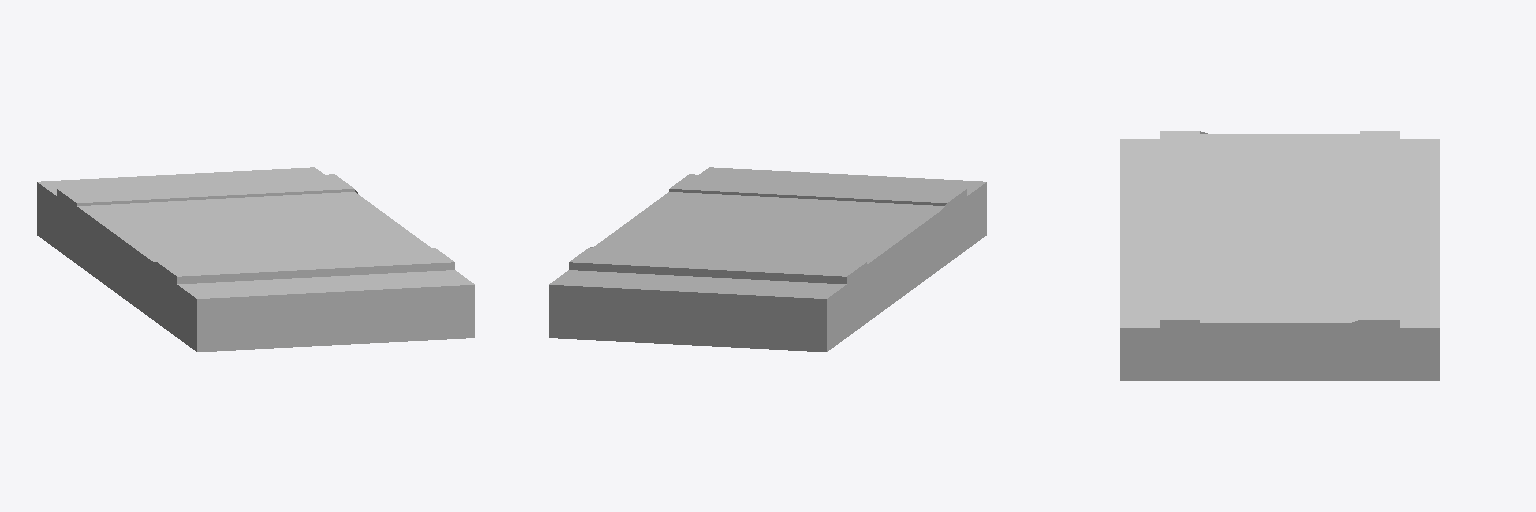
File: roadTile_183.obj
The picture shows the model from 3 angles: view 1: azimuth 30°, elevation 25°; view 2: azimuth 150°, elevation 25°; view 3: azimuth 270°, elevation 25°; orthographic projection.
Parts seen in each view (by area): view 1: Mesh1 Group1 Model; view 2: Mesh1 Group1 Model; view 3: Mesh1 Group1 Model.
Part boxes in pixels (x1,y1,x2,y2): Mesh1 Group1 Model: (37,167,474,351); Mesh1 Group1 Model: (549,167,986,351); Mesh1 Group1 Model: (1120,131,1439,380).
Size of the model in its own units: 3 by 1.18 by 3.